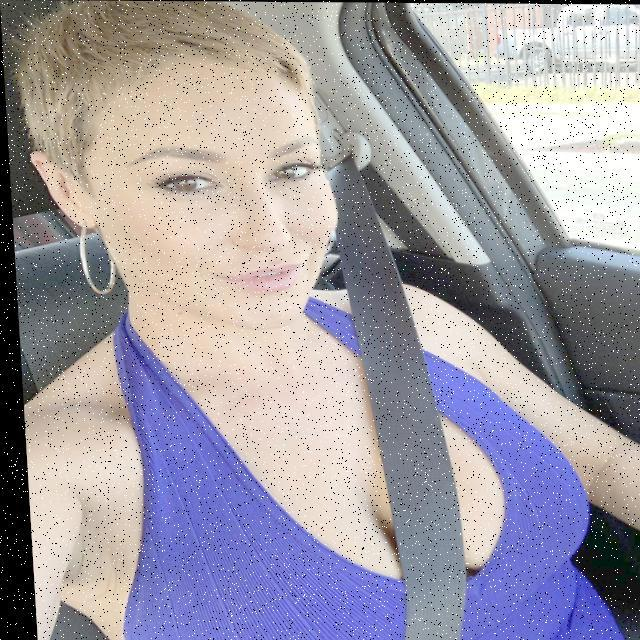seatbelt: (42, 274, 568, 640)
